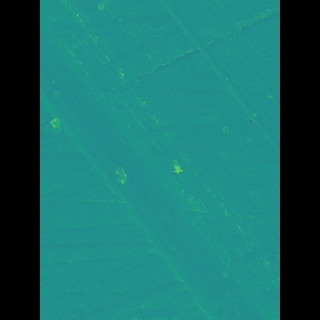Loch: (69, 16, 248, 320), (160, 0, 251, 144)
